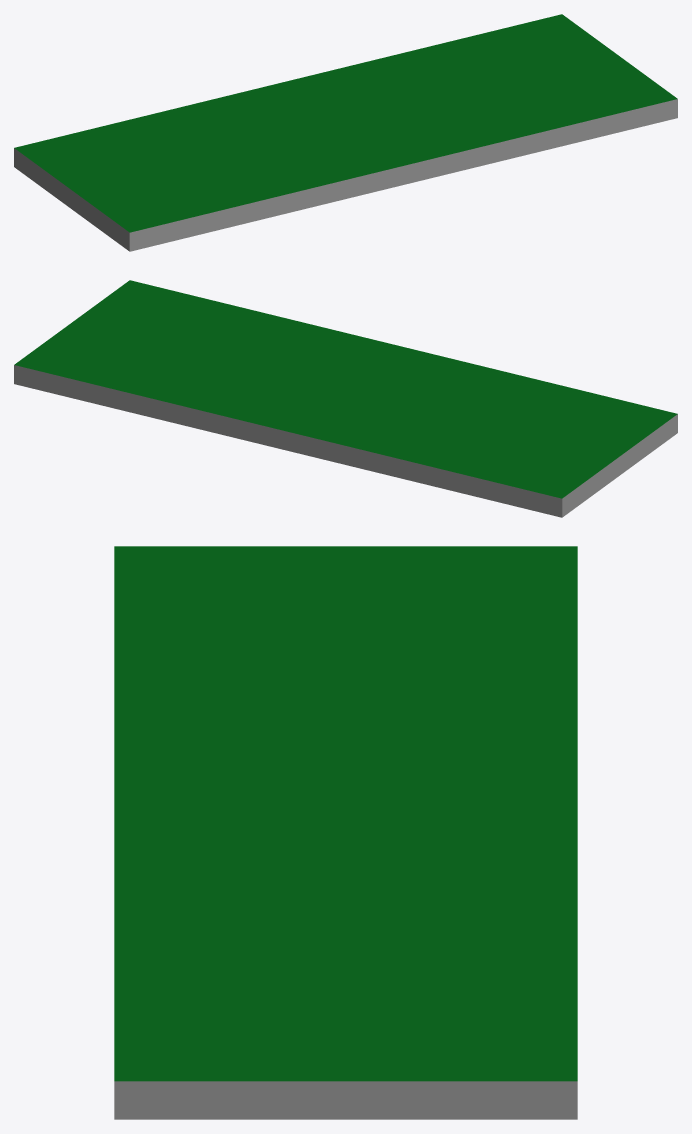
File: Stairs_Floor_02_Snaps014.fbx
3 views of the same model, one above another, from view 1: azimuth 30°, elevation 25°; view 2: azimuth 150°, elevation 25°; view 3: azimuth 270°, elevation 25° (orthographic). The views are drawn at different scales.
Visible parts, largest first — view 1: Stairs_Floor_02_LOD00; view 2: Stairs_Floor_02_LOD00; view 3: Stairs_Floor_02_LOD00.
Boxes of the visible parts, x1,y1,x2,y2 form: Stairs_Floor_02_LOD00: [14, 14, 677, 251]; Stairs_Floor_02_LOD00: [14, 280, 677, 517]; Stairs_Floor_02_LOD00: [114, 546, 577, 1119].
Size of what is drawn, in the model's own units: 600 by 20 by 220.
